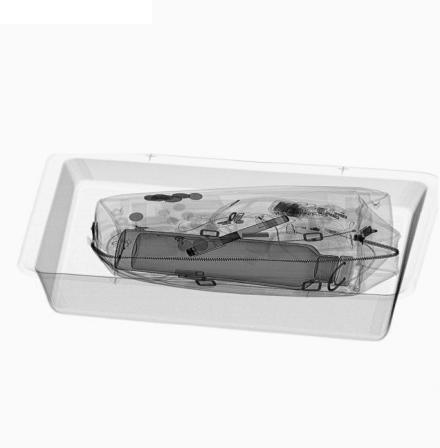Lighter: (286, 222, 352, 243)
